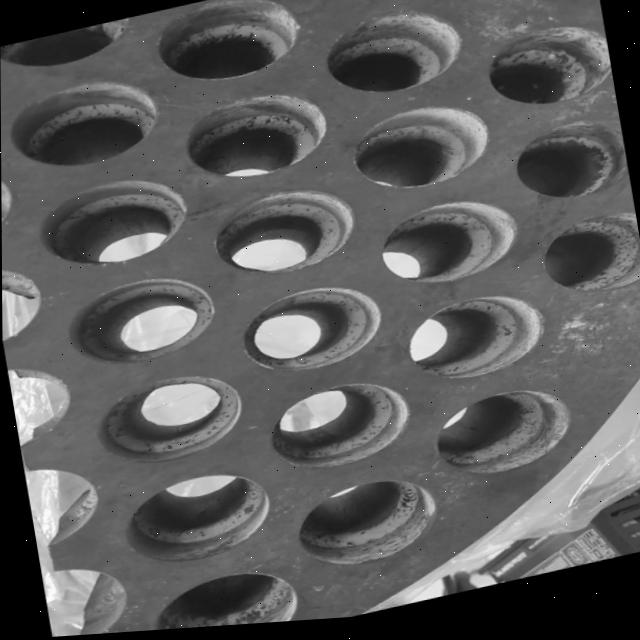Hole: (32, 169, 191, 281), (3, 70, 163, 181), (117, 464, 275, 575), (62, 268, 219, 378), (177, 85, 333, 195), (205, 181, 361, 291), (90, 368, 247, 476), (343, 100, 494, 208), (289, 475, 440, 582), (262, 377, 413, 484), (400, 290, 550, 397), (426, 386, 576, 493), (235, 280, 385, 387), (373, 195, 522, 302), (318, 5, 467, 112), (149, 0, 305, 97), (479, 25, 615, 125), (507, 120, 630, 219), (144, 562, 300, 633), (534, 216, 640, 311), (0, 19, 135, 81), (295, 0, 439, 18)
